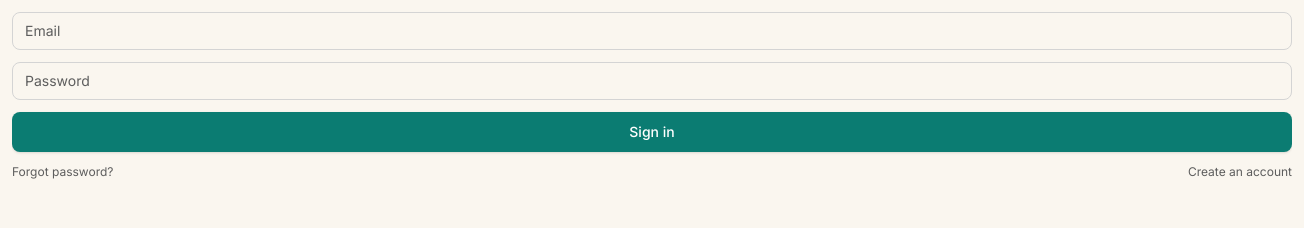
Test: PasswordLoginForm submission › surfaces the message the API gave, not a generic one
Step 1. Type "a@b.test" into the field with placeholder "Email" → (652, 31), box [12,12,1292,50]
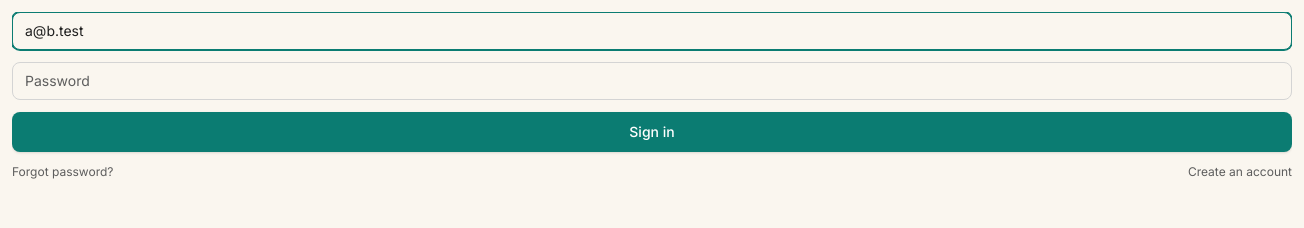
Step 2. Type "hunter2" into the password field with placeholder "Password" → (652, 81), box [12,62,1292,100]
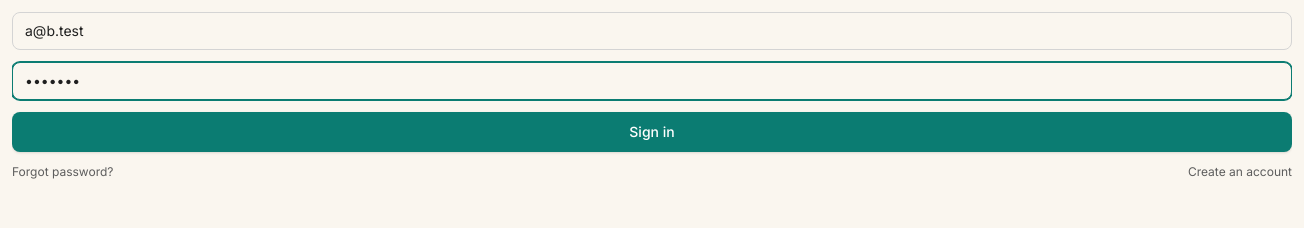
Step 3. Click the button "Sign in" → click(652, 132), box [12,112,1292,152]
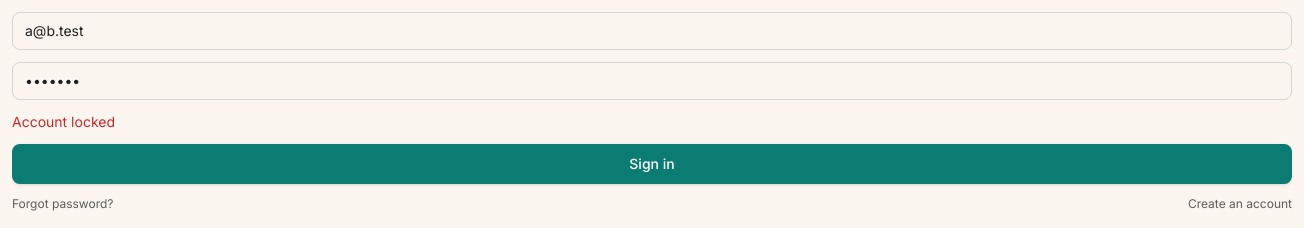
Now the text "Account locked" is shown, box [12,113,115,130]
